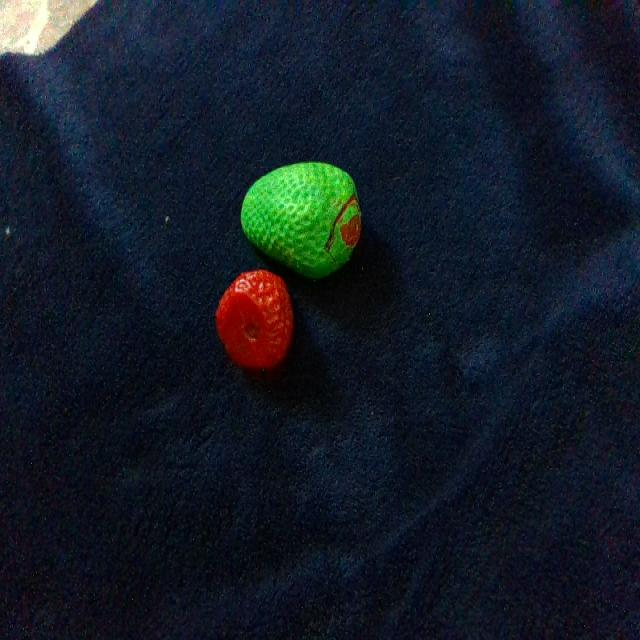chica_roja: (217, 271, 293, 367)
verde: (241, 163, 361, 277)
